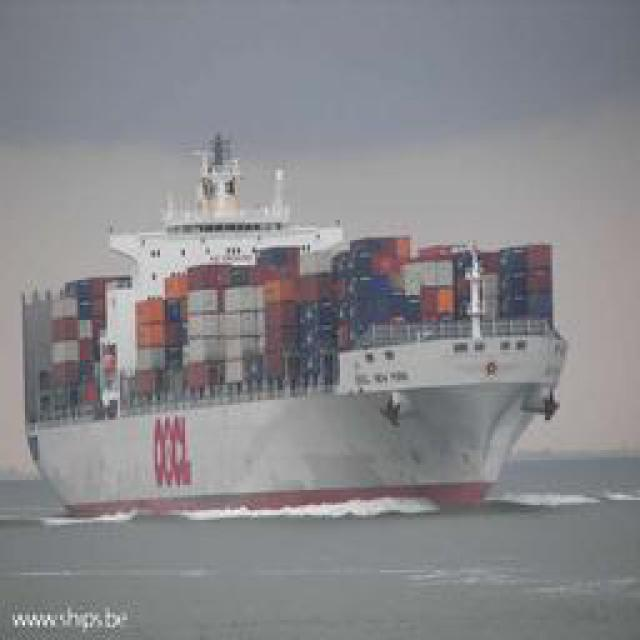Ship: (19, 130, 569, 515)
